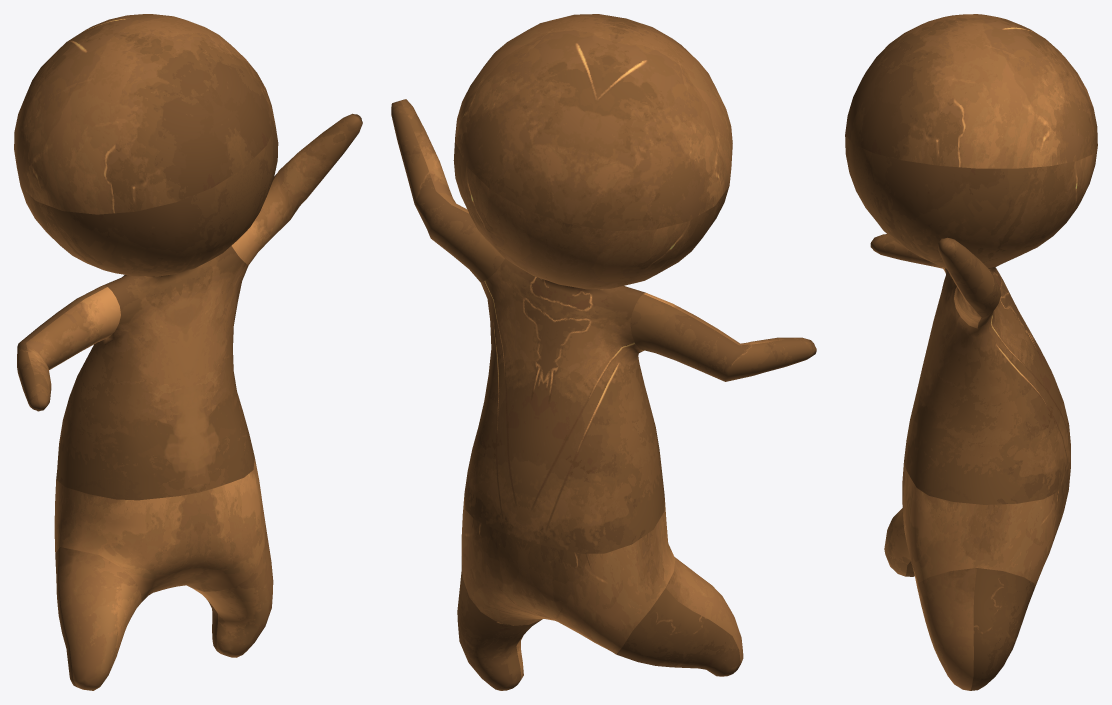
The model's file is personagem1.fbx.
The picture shows the model from 3 angles, left to right: view 1: azimuth 30°, elevation 25°; view 2: azimuth 150°, elevation 25°; view 3: azimuth 270°, elevation 25°; orthographic projection. The views are drawn at different scales.
Visible parts, largest first — view 1: polySurface95; view 2: polySurface95; view 3: polySurface95.
Boxes of the visible parts, left/top/right/bottom form: polySurface95: left=14, top=14, right=362, bottom=690; polySurface95: left=391, top=14, right=816, bottom=690; polySurface95: left=845, top=14, right=1097, bottom=690.
Size of the model in its own units: 36.25 by 61.37 by 22.54.
